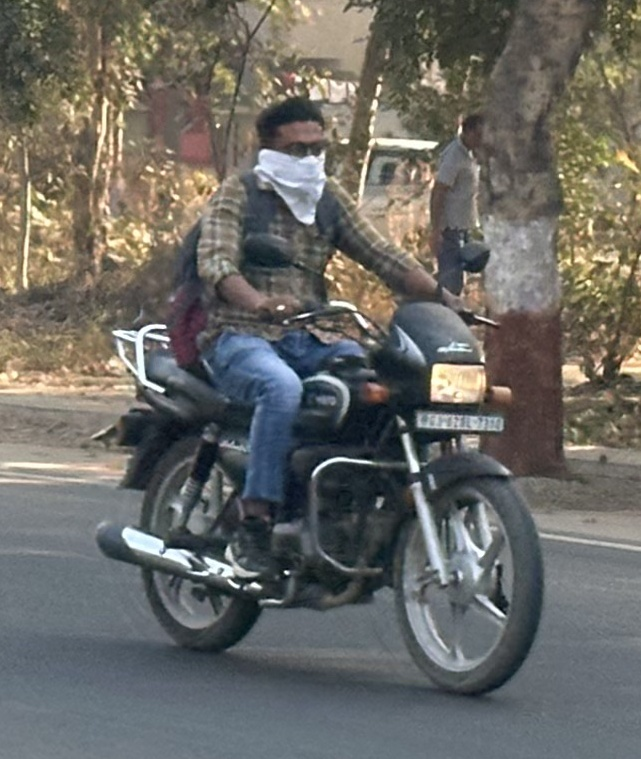BikeWithRider: (81, 86, 558, 703)
NoHelmet: (237, 91, 345, 197)
